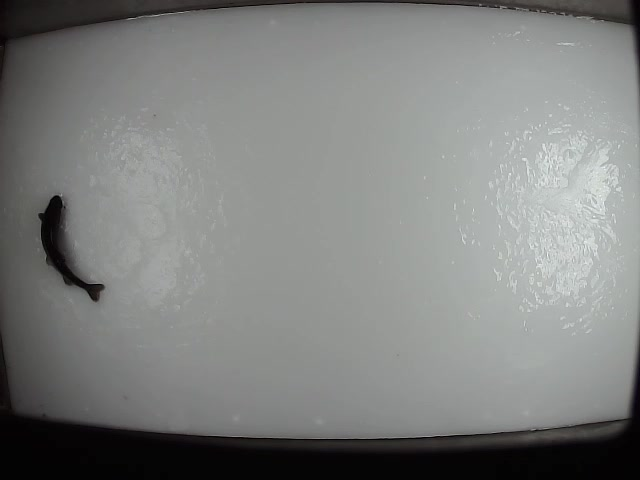fish: (36, 192, 106, 303), (472, 138, 544, 201)
